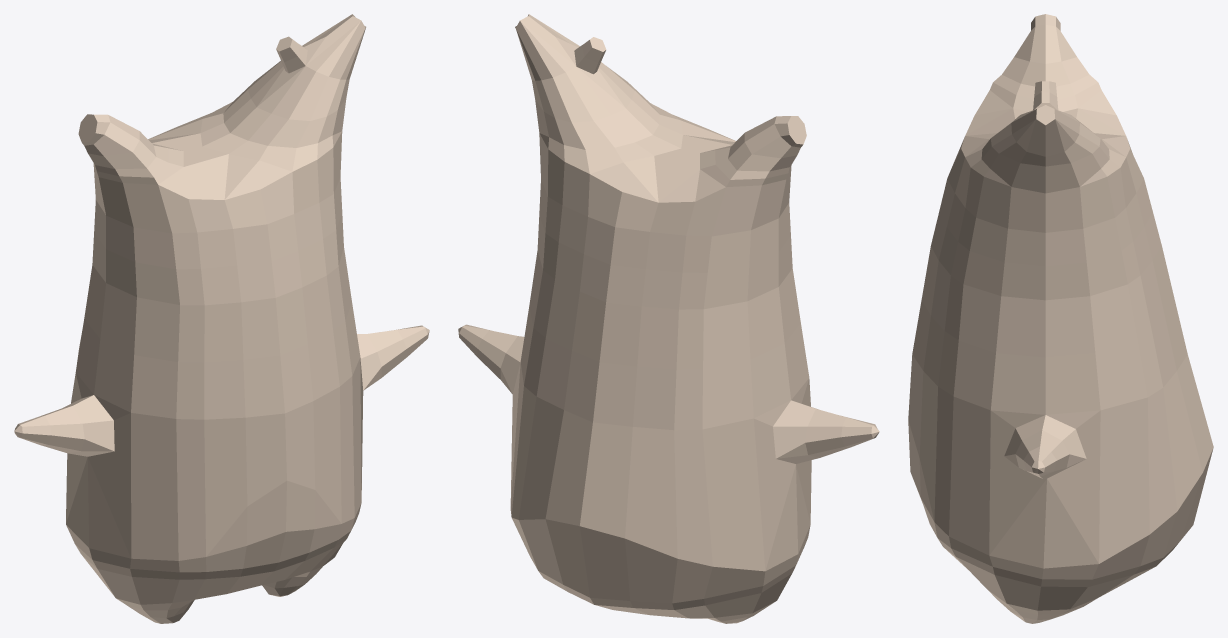
File: frame_0156.obj
3 views of the same model, side by side, from view 1: azimuth 30°, elevation 25°; view 2: azimuth 150°, elevation 25°; view 3: azimuth 270°, elevation 25° (orthographic).
Parts seen in each view (by area): view 1: korok; view 2: korok; view 3: korok.
Boxes of the visible parts, x1,y1,x2,y2 form: korok: (14,14,429,623); korok: (458,14,879,623); korok: (908,14,1213,623).
Size of the model in its own units: 1.67 by 2.13 by 1.06.
